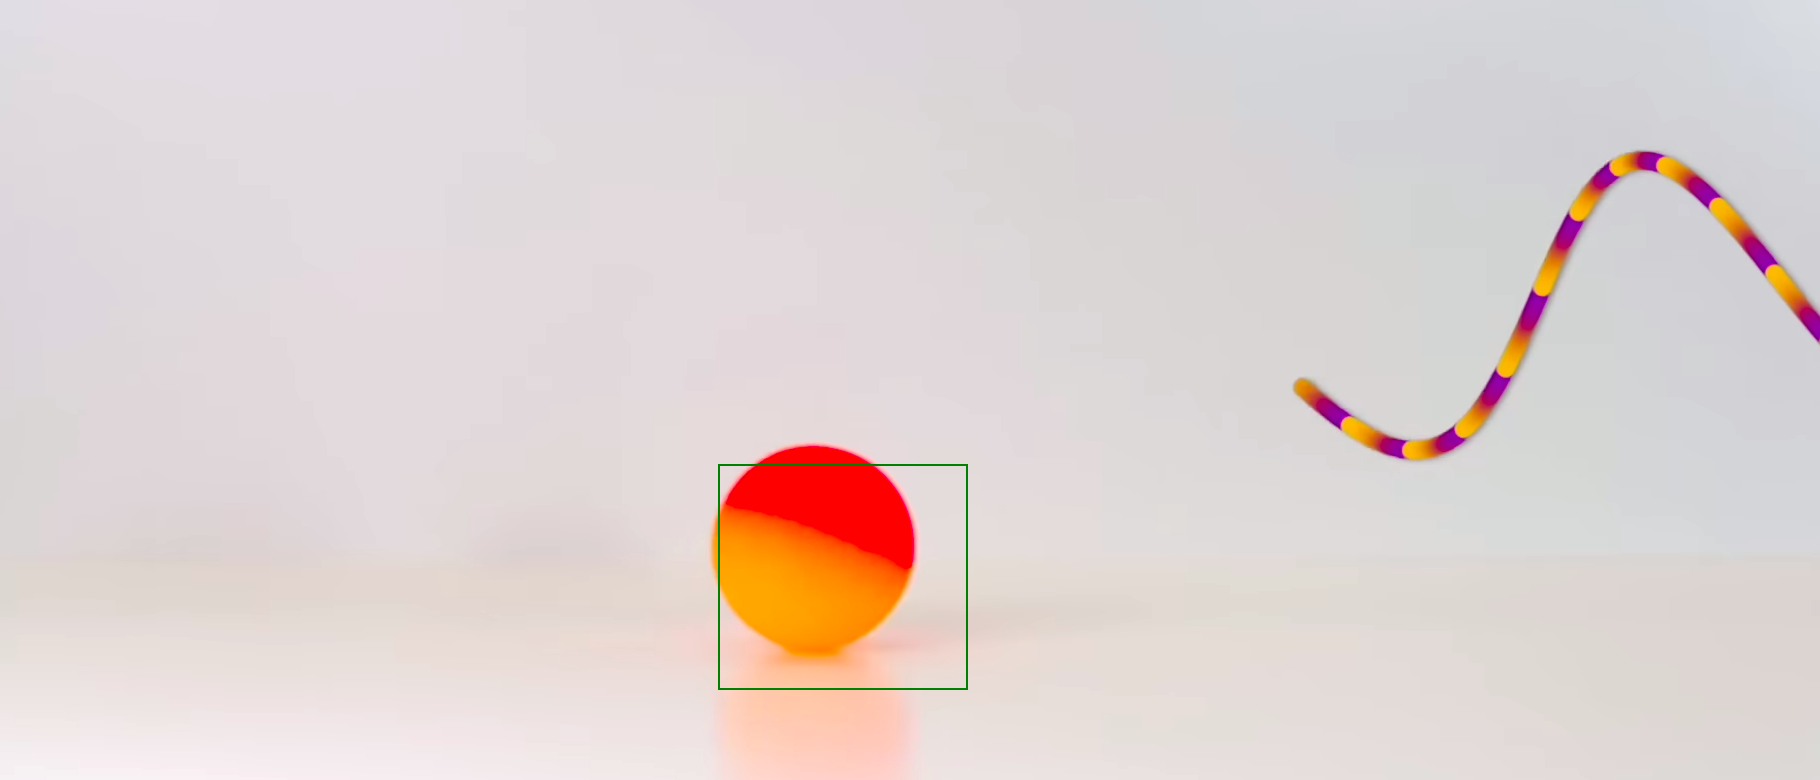Circle: (710, 441, 919, 658)
